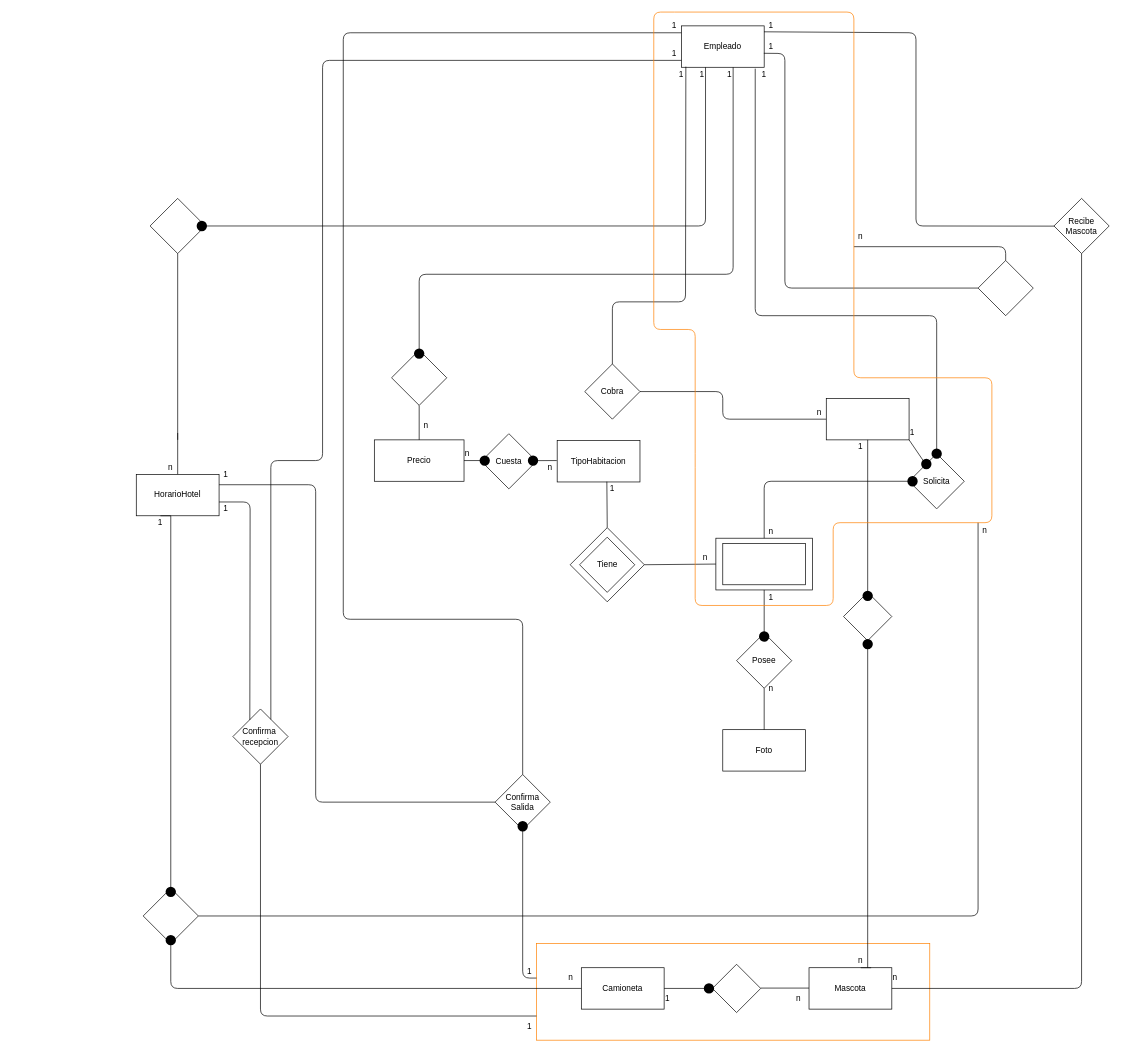
The diagram is 1121 pixels wide and 1052 high, and some of its shapes have lost their labels. The shapes that lost their labels are listed below. From the top down, each one's centre as x and y in pixels, then its label:
(x=177, y=226): Controla
(x=1005, y=288): Con Pago
(x=419, y=377): Regula
(x=867, y=419): Cliente
(x=764, y=564): Habitacion
(x=867, y=616): Pertenece
(x=170, y=916): Acude
(x=736, y=988): Transporta
